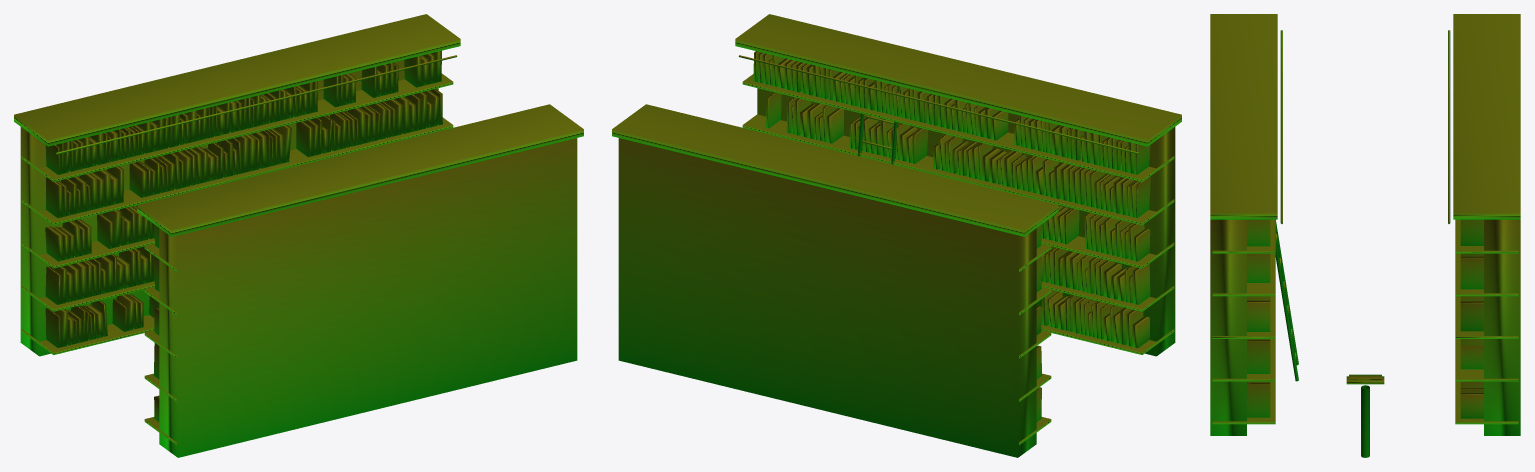
The model's file is archive_stacks.glb.
3 views of the same model, side by side, from view 1: azimuth 30°, elevation 25°; view 2: azimuth 150°, elevation 25°; view 3: azimuth 270°, elevation 25° (orthographic).
Parts seen in each view (by area): view 1: archive_stacks; view 2: archive_stacks; view 3: archive_stacks.
Part boxes in pixels (<box>): archive_stacks: <box>14,14,583,457</box>; archive_stacks: <box>612,14,1181,457</box>; archive_stacks: <box>1210,14,1520,457</box>.
Size of what is drawn, in the model's own units: 7 by 3.3 by 4.08.
